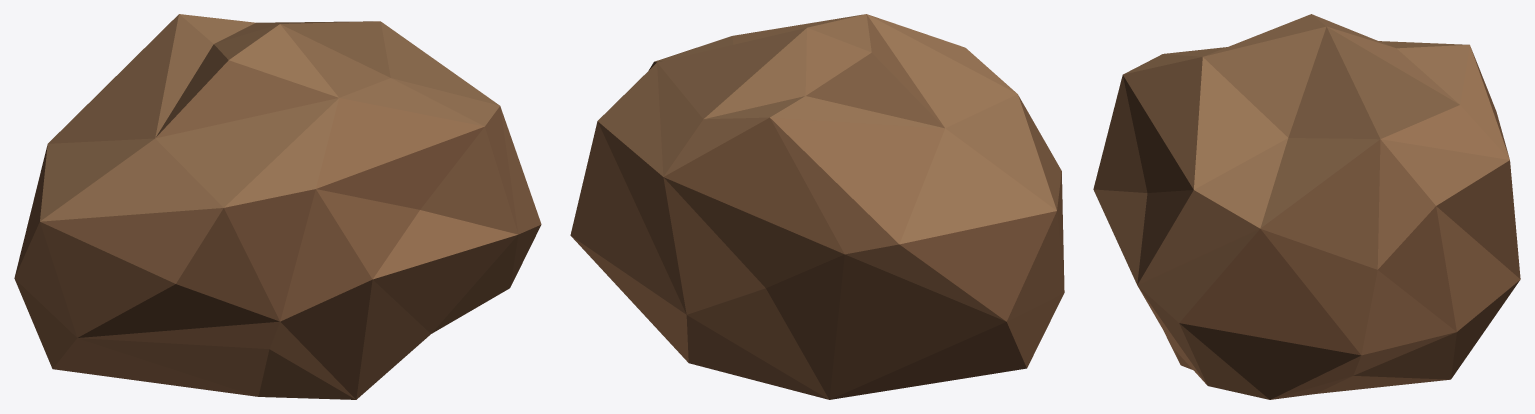
Rendered from BoulderB.glb.
3 views of the same model, side by side, from view 1: azimuth 30°, elevation 25°; view 2: azimuth 150°, elevation 25°; view 3: azimuth 270°, elevation 25° (orthographic). The views are drawn at different scales.
Visible parts, largest first — view 1: BoulderB.001; view 2: BoulderB.001; view 3: BoulderB.001.
Boxes of the visible parts, left/top/right/bottom form: BoulderB.001: left=14, top=14, right=541, bottom=399; BoulderB.001: left=570, top=14, right=1064, bottom=399; BoulderB.001: left=1093, top=14, right=1520, bottom=399.
Bounding box in the file's own units: 1.85 × 1.44 × 1.51.
